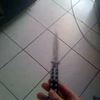knife: (48, 31, 58, 93)
